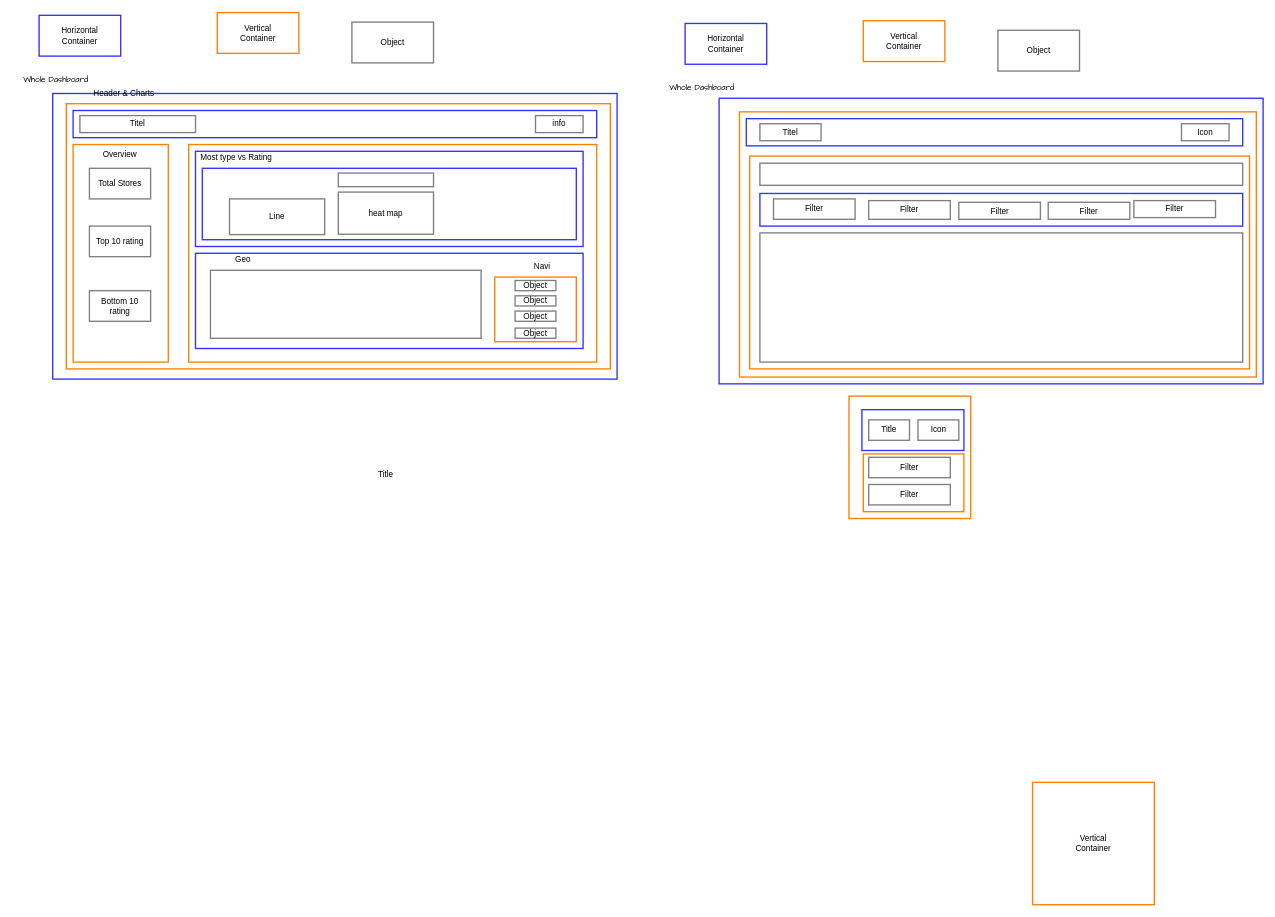
Some shapes in this 1275 by 917 pixel diagram are drawn without their labels. Here are the shapes that lost their labels. From the top down, the centre of each, then its label:
At point (385, 179): "Bar chart".
At point (1001, 174): "Restaurant list".
At point (345, 304): "Map".
At point (1001, 297): "List".
